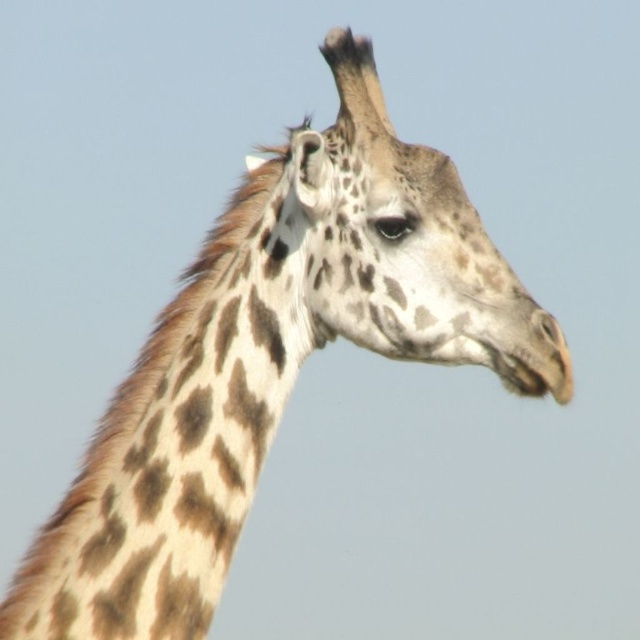Giraffe: (0, 26, 575, 639)
